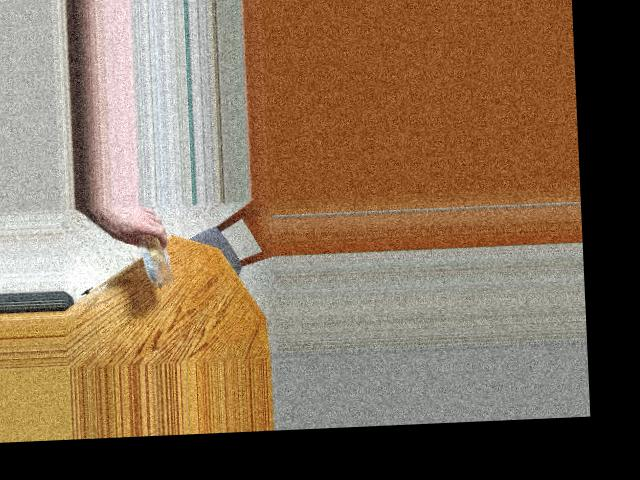cheese: (128, 234, 174, 282)
